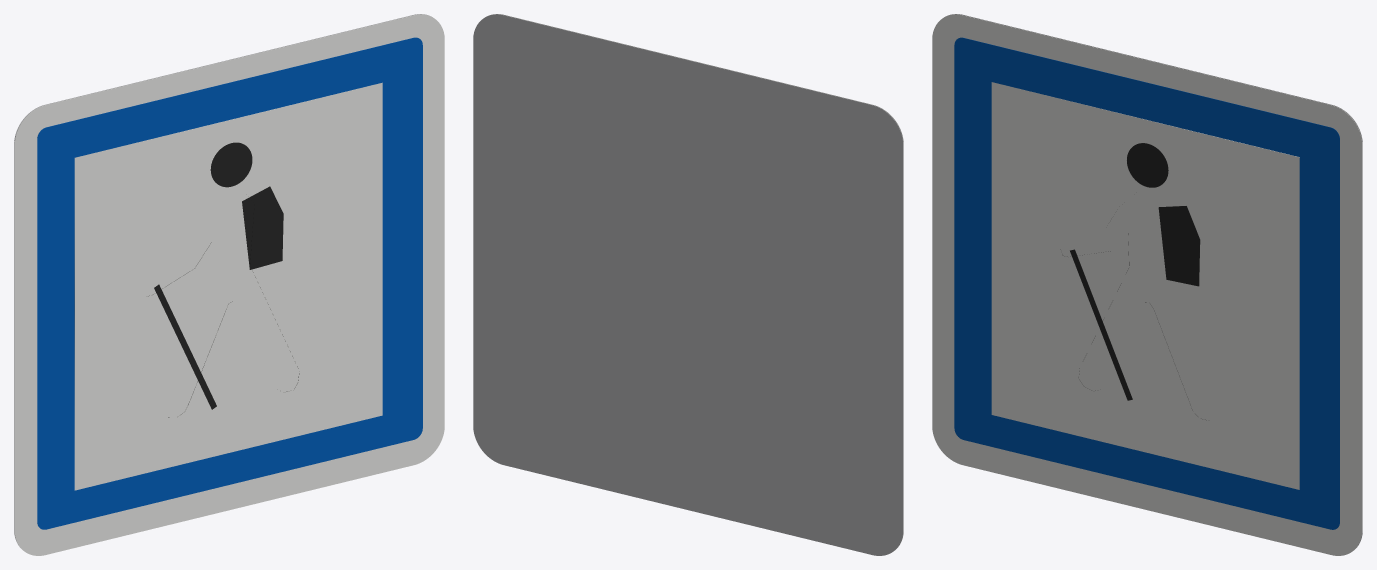
3 views of the same model, side by side, from view 1: azimuth 30°, elevation 25°; view 2: azimuth 150°, elevation 25°; view 3: azimuth 330°, elevation 25° (orthographic).
Visible parts, largest first — view 1: CE6a_p02, CE6a_p01, CE6a_p00, CE6a_p03, CE6a_p05, CE6a_p06, CE6a_dos; view 2: CE6a_dos, CE6a_p00; view 3: CE6a_p02, CE6a_p01, CE6a_p00, CE6a_p03, CE6a_p05, CE6a_p06, CE6a_dos.
Part boxes in pixels (<box>): CE6a_p02: <box>74,82,382,490</box>; CE6a_p01: <box>37,37,422,529</box>; CE6a_p00: <box>14,14,444,555</box>; CE6a_p03: <box>242,186,283,269</box>; CE6a_p05: <box>210,142,252,187</box>; CE6a_p06: <box>154,284,216,409</box>; CE6a_dos: <box>14,14,431,547</box>; CE6a_dos: <box>473,14,903,555</box>; CE6a_p00: <box>486,14,903,547</box>; CE6a_p02: <box>991,82,1299,489</box>; CE6a_p01: <box>954,37,1339,529</box>; CE6a_p00: <box>932,14,1362,555</box>; CE6a_p03: <box>1158,206,1200,286</box>; CE6a_p05: <box>1127,143,1168,187</box>; CE6a_p06: <box>1070,249,1132,400</box>; CE6a_dos: <box>945,14,1362,547</box>.
Bounding box in the file's own units: 0.7 × 0.6999 × 0.0043.
